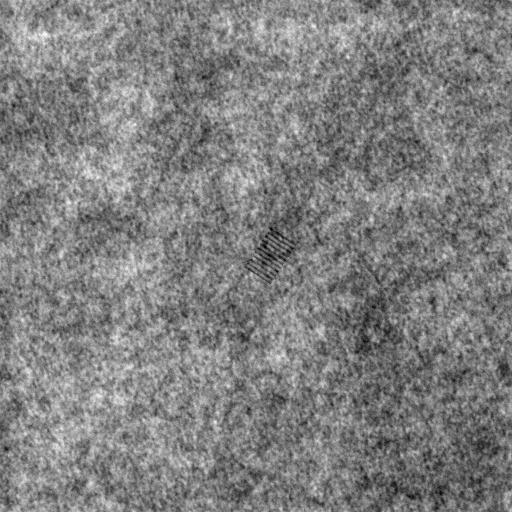DefectTypeB: (248, 226, 293, 282)
